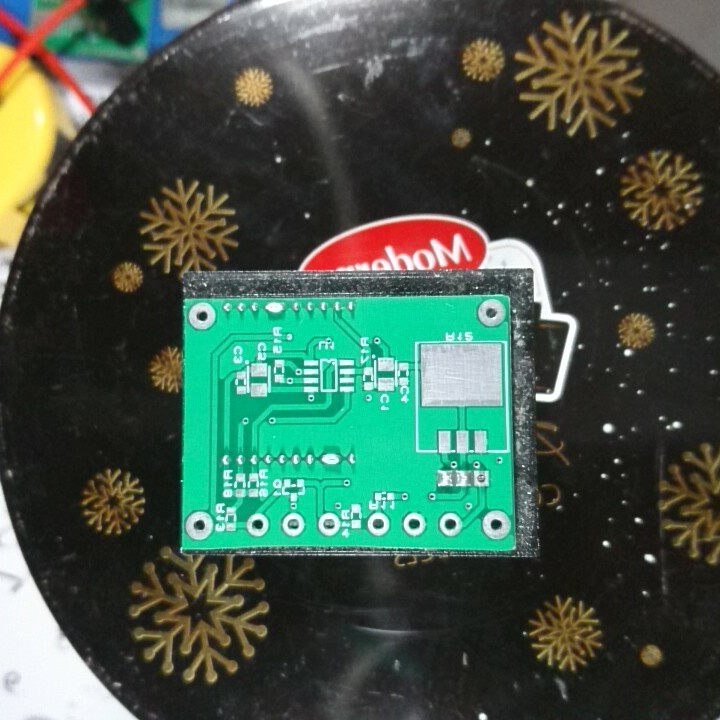F: (187, 298, 217, 337), (481, 509, 513, 542), (475, 298, 507, 329), (185, 509, 215, 541), (401, 510, 428, 540), (245, 512, 273, 540), (437, 510, 464, 539), (365, 510, 392, 538), (281, 511, 307, 538), (316, 511, 341, 539), (471, 468, 491, 491)
P: (261, 298, 290, 322), (318, 451, 344, 470)
